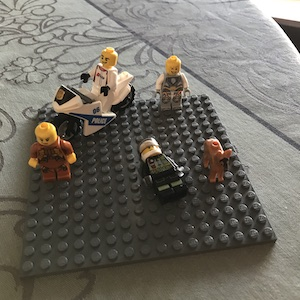Lego: (134, 136, 189, 198), (24, 121, 77, 182), (83, 46, 120, 110), (152, 54, 190, 114)
